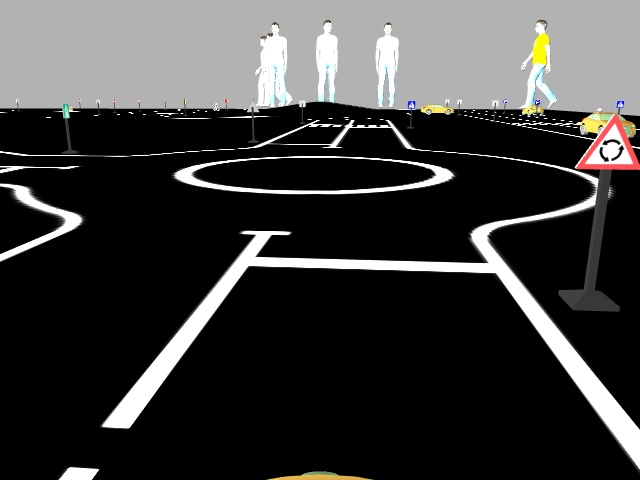Roundabout: (570, 114, 639, 173)
